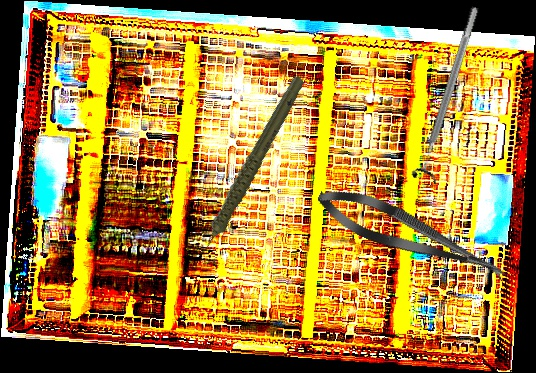Fixation Ring: (409, 3, 490, 185)
Handpiece: (156, 73, 338, 262)
Micro Scissor: (310, 177, 513, 294)
